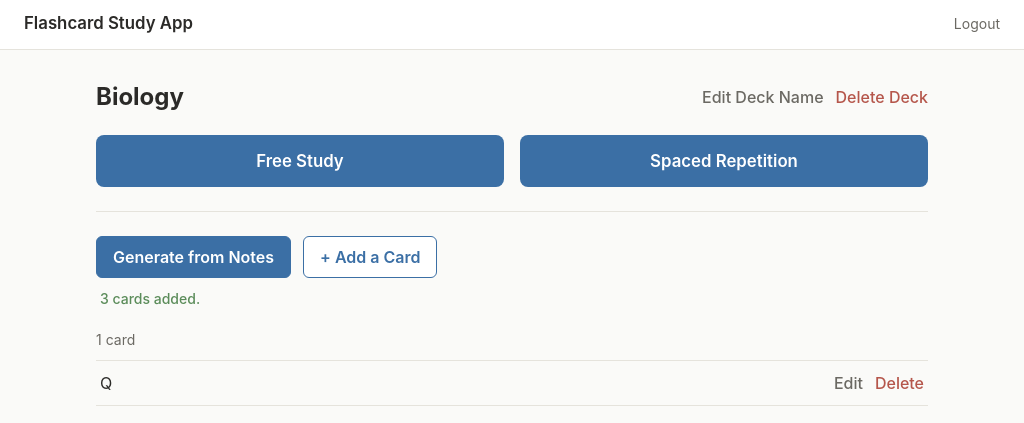
it: DeckDetailPage › clears the added-cards message on editing a card
Expected: the text "3 cards added." is shown, [100,290,200,307]
Click the button "Edit". click: x=848, y=383
box: [834,373,863,393]
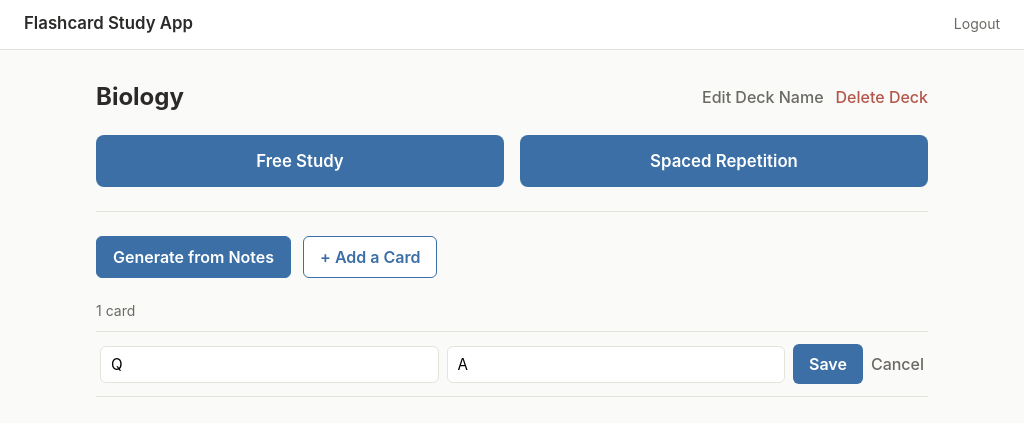
Expected: the text "3 cards added." is gone
